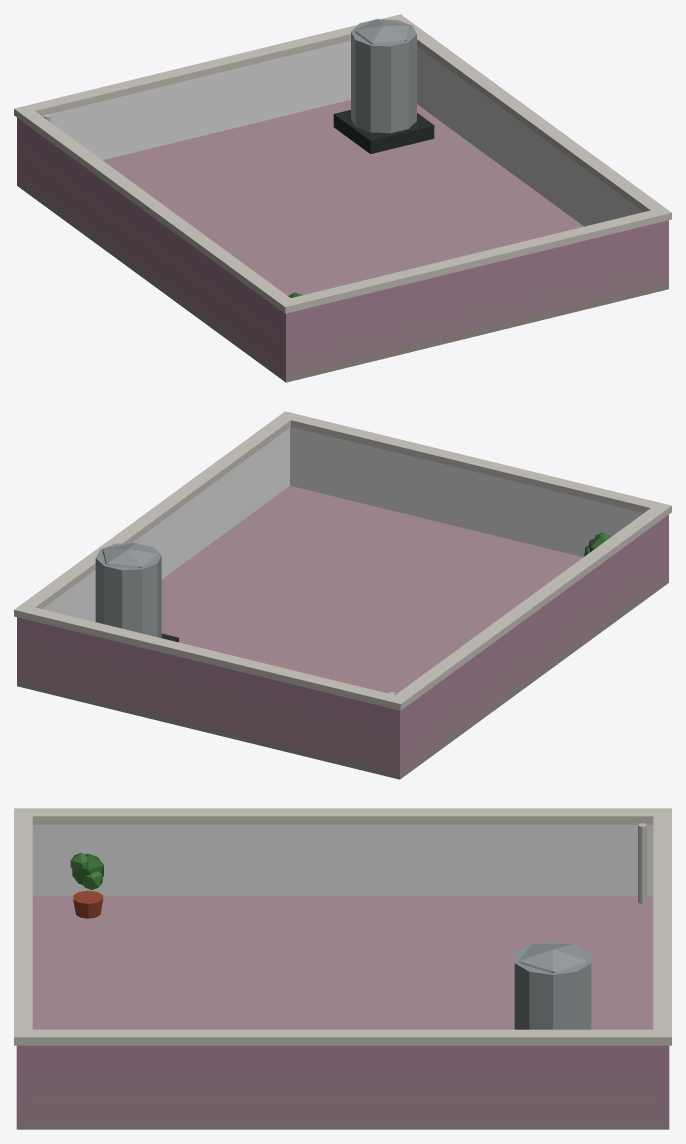
Rendered from mai_san_thuong_60.glb.
The picture shows the model from 3 angles, top to bottom: view 1: azimuth 30°, elevation 25°; view 2: azimuth 150°, elevation 25°; view 3: azimuth 270°, elevation 25°; orthographic projection. The views are drawn at different scales.
Parts seen in each view (by area): view 1: mai_san_thuong_60; view 2: mai_san_thuong_60; view 3: mai_san_thuong_60.
Part boxes in pixels (box(x1,y1,x2,y2)): mai_san_thuong_60: box(14, 14, 671, 382); mai_san_thuong_60: box(14, 411, 671, 779); mai_san_thuong_60: box(14, 808, 671, 1129).
Size of the model in its own units: 6.06 by 1.76 by 7.36.
